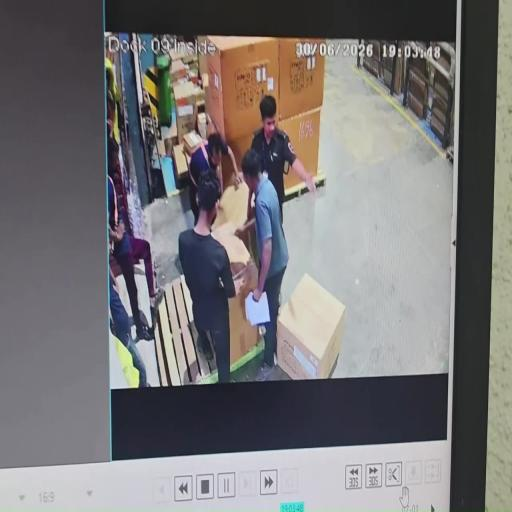carton: (196, 32, 279, 146), (275, 272, 346, 380), (214, 225, 262, 371), (278, 36, 326, 121), (281, 106, 321, 188), (221, 139, 254, 190), (218, 182, 252, 228), (173, 76, 198, 126), (172, 143, 194, 181), (165, 62, 194, 84), (160, 126, 178, 158), (181, 130, 202, 154)
pallet: (154, 276, 263, 387), (283, 172, 327, 202)
person: (233, 149, 289, 381), (178, 168, 236, 384), (245, 95, 318, 224), (108, 180, 164, 341), (185, 133, 242, 227), (109, 272, 148, 389)
